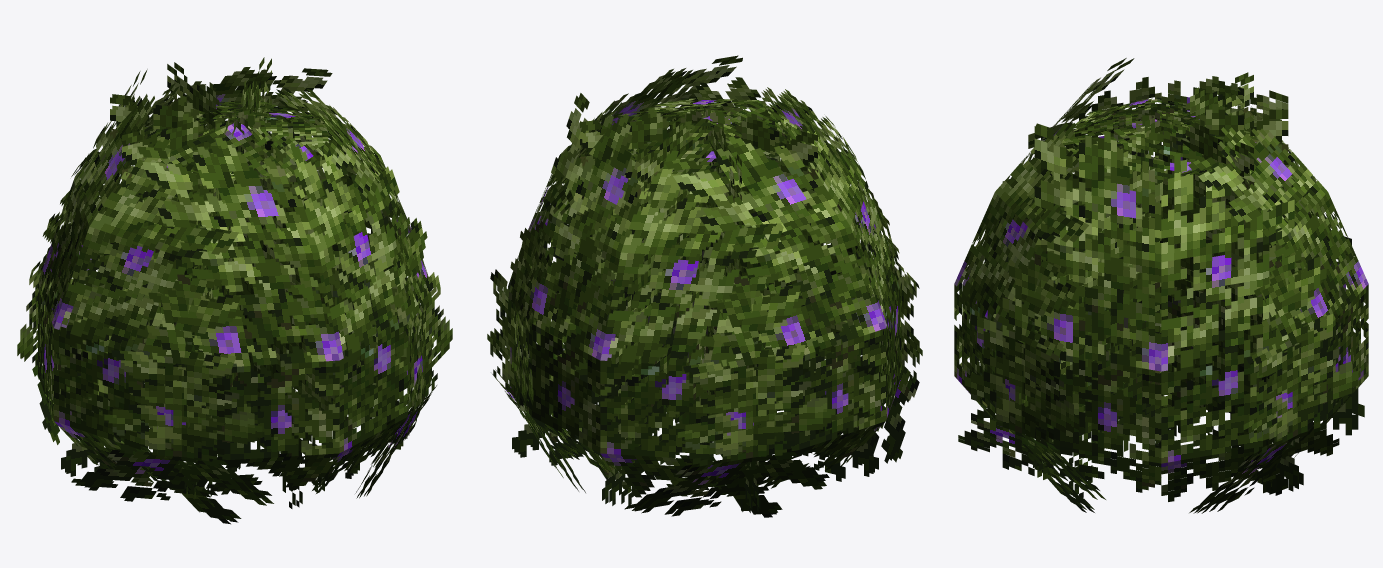
Rendered from bush03_spring5.glb.
3 views of the same model, side by side, from view 1: azimuth 30°, elevation 25°; view 2: azimuth 150°, elevation 25°; view 3: azimuth 270°, elevation 25° (orthographic).
Visible parts, largest first — view 1: bush03; view 2: bush03; view 3: bush03.
Boxes of the visible parts, bbox=[...] form: bush03: bbox=[17, 57, 452, 524]; bush03: bbox=[487, 55, 922, 517]; bush03: bbox=[954, 58, 1368, 513].
Size of the model in its own units: 1.53 by 1.5 by 1.53.
1 material, 1 textured.
